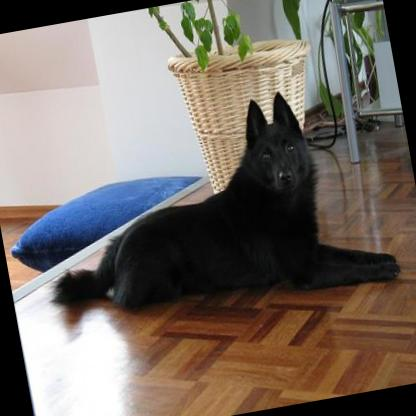schipperke: (19, 75, 399, 344)
